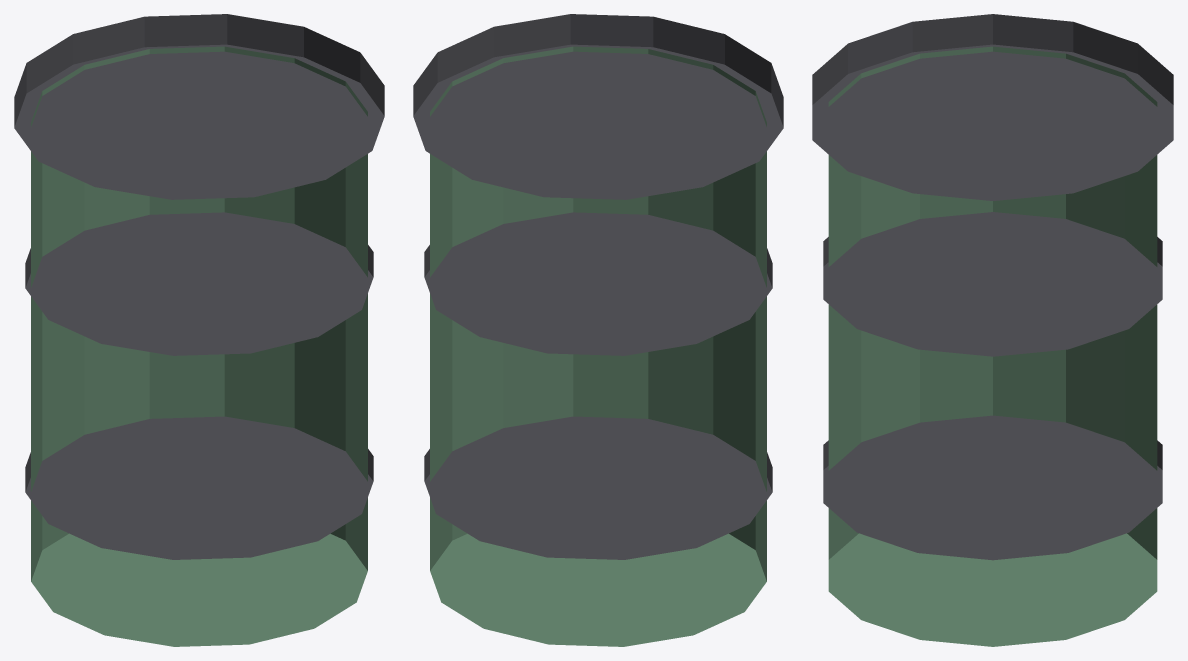
Rendered from lixeira.glb.
3 renders of one model, left to right at view 1: azimuth 30°, elevation 25°; view 2: azimuth 150°, elevation 25°; view 3: azimuth 270°, elevation 25°, orthographic.
Visible parts, largest first — view 1: lixeira; view 2: lixeira; view 3: lixeira.
Boxes of the visible parts, bbox=[...] form: lixeira: bbox=[14, 14, 384, 646]; lixeira: bbox=[413, 14, 783, 646]; lixeira: bbox=[812, 14, 1173, 646].
Size of the model in its own units: 0.66 by 0.95 by 0.6435.
